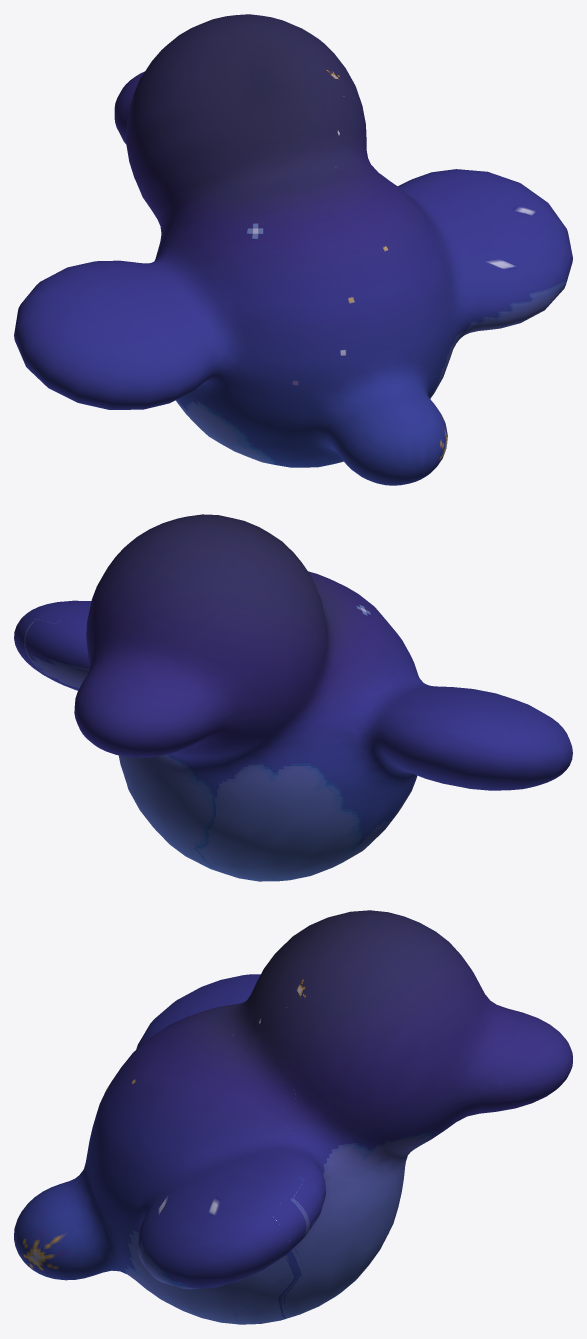
The model's file is sky_bird.glb.
3 renders of one model, top to bottom at view 1: azimuth 30°, elevation 25°; view 2: azimuth 150°, elevation 25°; view 3: azimuth 270°, elevation 25°, orthographic.
Visible parts, largest first — view 1: 重构网格; view 2: 重构网格; view 3: 重构网格.
Part boxes in pixels (box(x1,y1,x2,y2)): 重构网格: box(14, 14, 572, 485); 重构网格: box(14, 514, 572, 881); 重构网格: box(14, 910, 572, 1324).
Bounding box in the file's own units: 7.93 × 5.41 × 7.03.
1 material, 1 textured.
